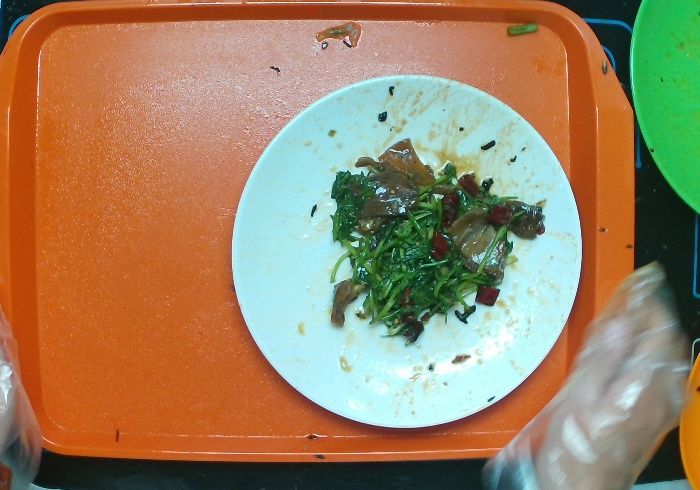HZYJPL-Bai_Se_Yuan_Pan: (225, 66, 591, 438)
